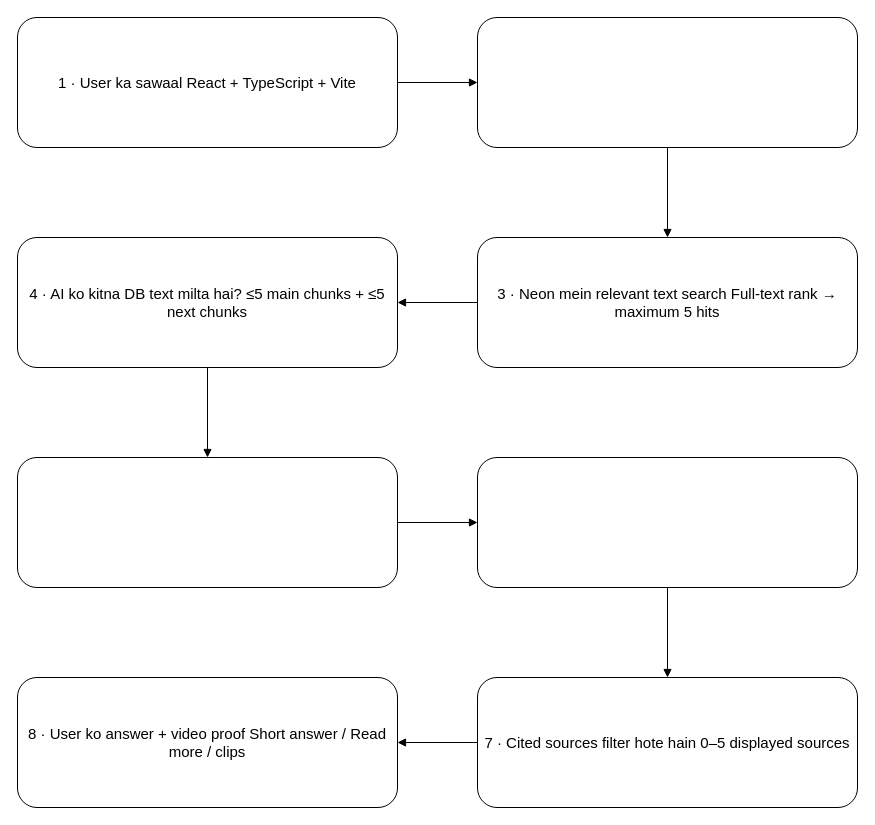
Image size: 875x825. Some labels were removed from this diagram. The centre of each missing label's shape, as x and y in pixels:
2 · Search query Hindi mein Hinglish / English → Devanagari: the point at 667,82
5 · Sawaal + sources + rules RAG context prompt taiyar: the point at 207,522
6 · AI model answer likhta hai Groq → Gemini → OpenAI fallback: the point at 667,522
